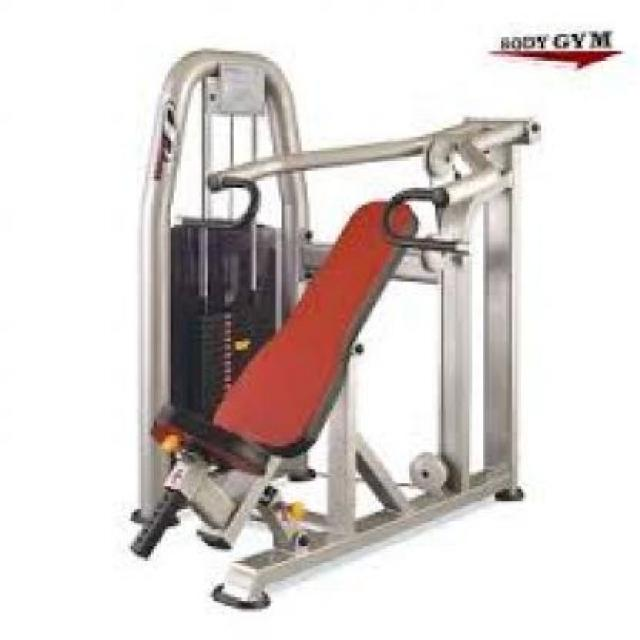shoulder press machine: (103, 42, 548, 620)
